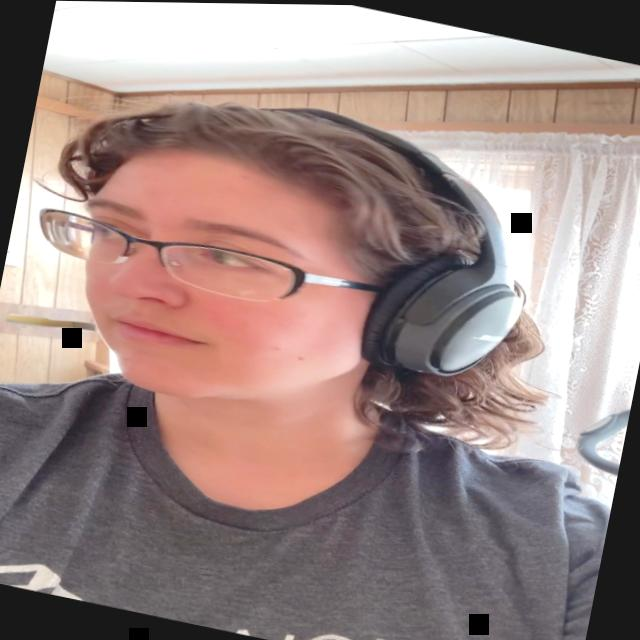NO-Mask: (52, 133, 394, 432)
